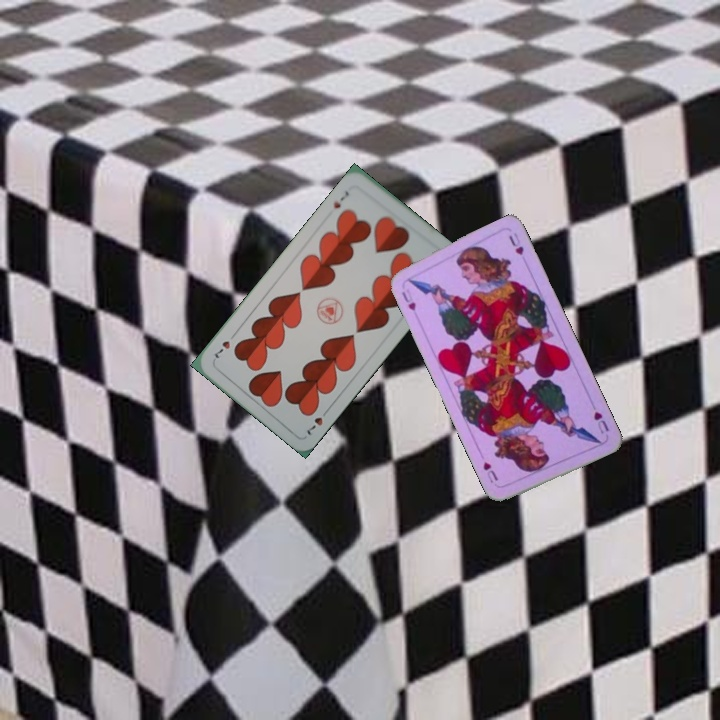H7: (303, 404, 332, 438), (329, 187, 352, 211)
HU: (589, 407, 611, 436), (397, 285, 418, 313)
